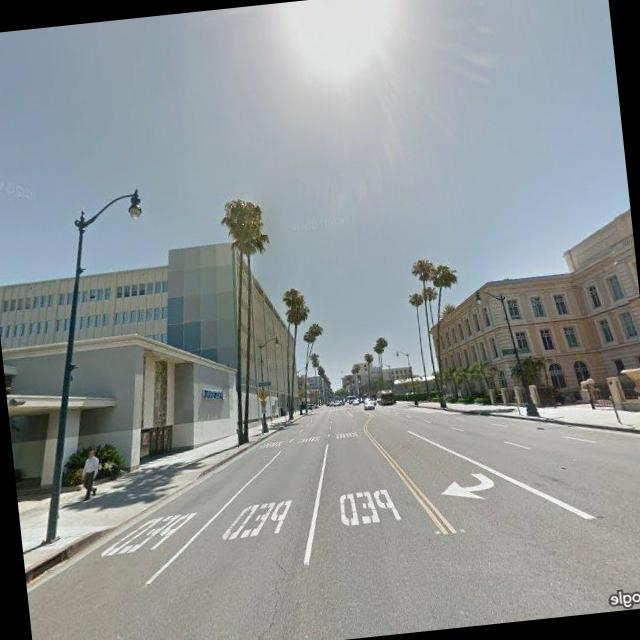pothole: (228, 551, 297, 640)
